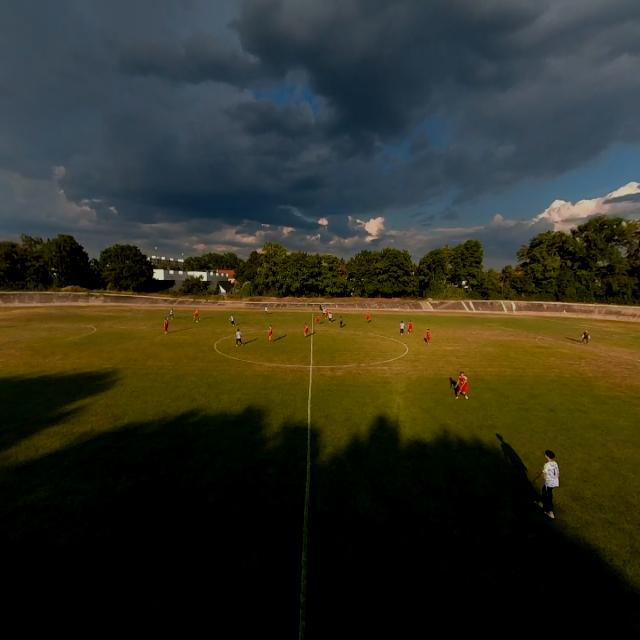ball: (196, 319, 198, 323)
